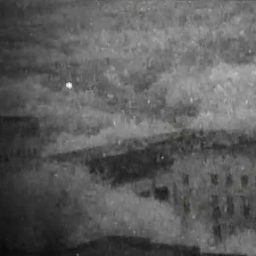Target: (64, 81, 74, 91)
